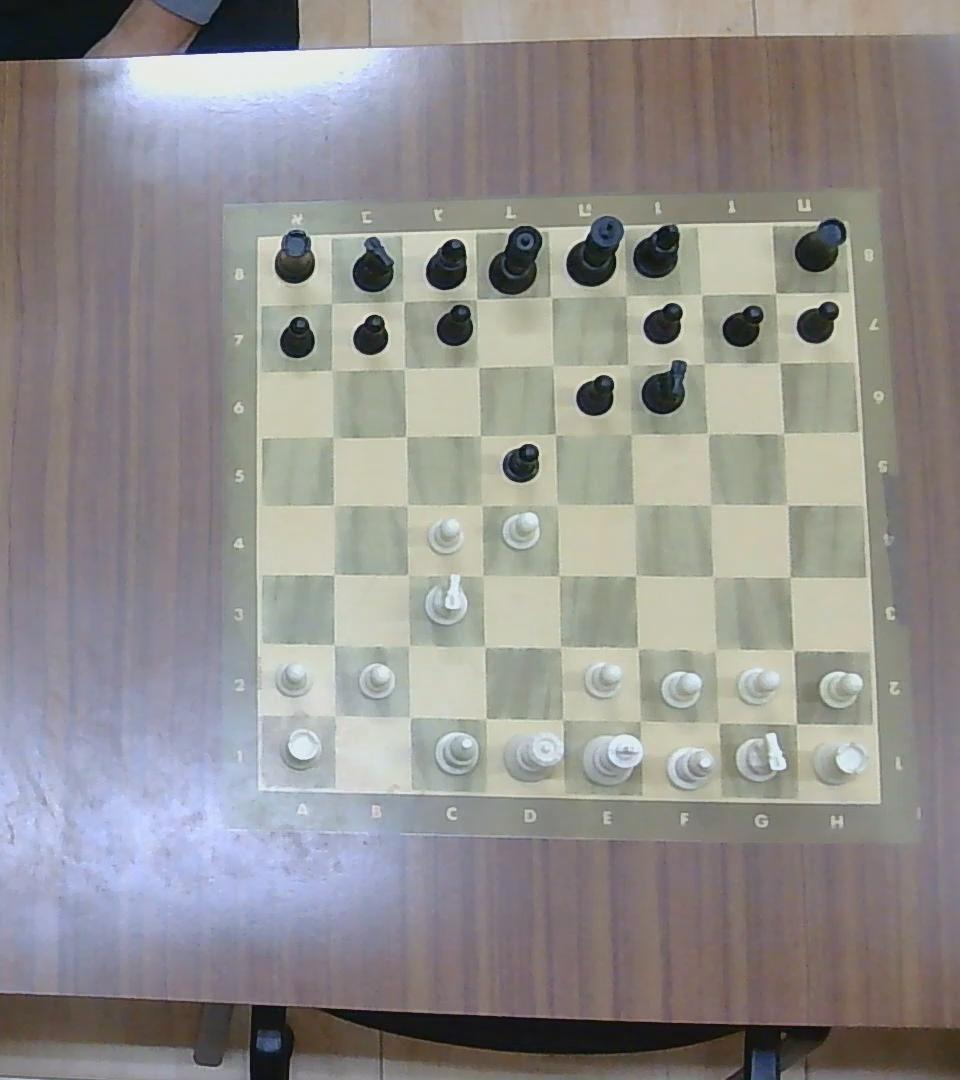xcorner: (778, 705, 813, 739), (622, 702, 656, 735), (701, 705, 734, 738), (620, 631, 653, 664), (546, 702, 578, 734), (468, 630, 499, 662), (469, 703, 500, 734), (774, 561, 805, 592), (319, 698, 350, 729), (543, 631, 575, 661), (698, 634, 730, 664), (393, 701, 423, 732), (393, 630, 423, 661), (698, 561, 728, 592), (777, 634, 808, 664), (620, 560, 650, 590), (319, 629, 349, 659), (544, 560, 573, 590), (319, 558, 348, 588), (619, 488, 649, 517), (393, 559, 422, 588), (772, 488, 801, 517), (543, 488, 572, 517), (460, 284, 489, 313), (467, 561, 496, 589), (319, 490, 348, 518), (695, 490, 723, 518), (616, 420, 645, 447), (693, 418, 722, 445), (536, 283, 565, 310), (467, 489, 495, 516), (393, 489, 421, 516), (542, 420, 569, 447), (612, 281, 639, 308), (317, 356, 345, 382), (538, 351, 566, 377), (769, 420, 797, 446), (318, 422, 345, 448), (317, 289, 345, 314), (392, 422, 418, 448), (464, 353, 491, 378), (390, 287, 415, 313), (466, 421, 491, 446), (690, 350, 715, 374), (616, 352, 641, 376), (690, 281, 714, 305), (763, 280, 788, 303), (390, 356, 414, 379), (767, 349, 791, 372)
